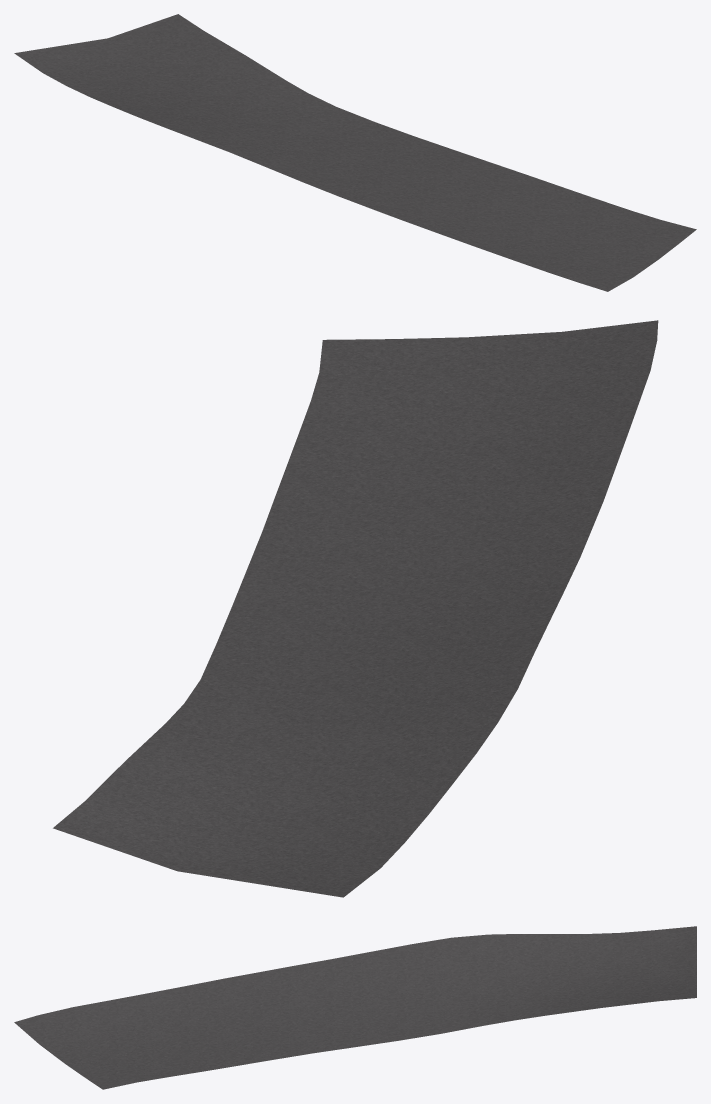
Rendered from road_03.glb.
3 views of the same model, one above another, from view 1: azimuth 30°, elevation 25°; view 2: azimuth 150°, elevation 25°; view 3: azimuth 270°, elevation 25° (orthographic). The views are drawn at different scales.
Visible parts, largest first — view 1: road_03.surface; view 2: road_03.surface; view 3: road_03.surface.
Part boxes in pixels (left/top/right/bottom): road_03.surface: left=14, top=14, right=696, bottom=291; road_03.surface: left=53, top=320, right=658, bottom=897; road_03.surface: left=14, top=926, right=696, bottom=1089.
Size of the model in its own units: 14.8 by 0.9333 by 28.47.
1 material, 1 textured.
